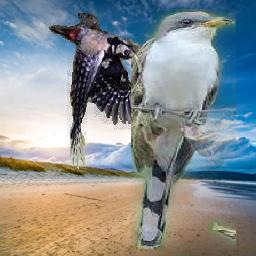Cuckoo: (132, 9, 237, 249)
Woodpecker: (50, 13, 149, 169)
